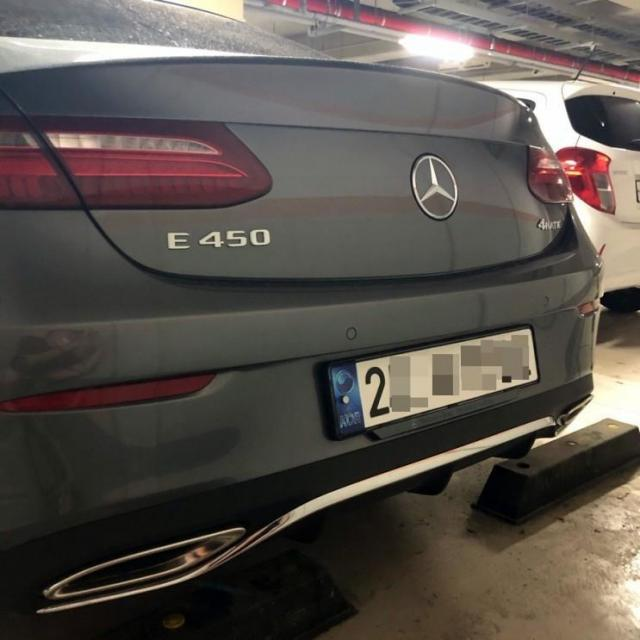car: (0, 0, 613, 619)
illegal_plate: (307, 321, 541, 435)
